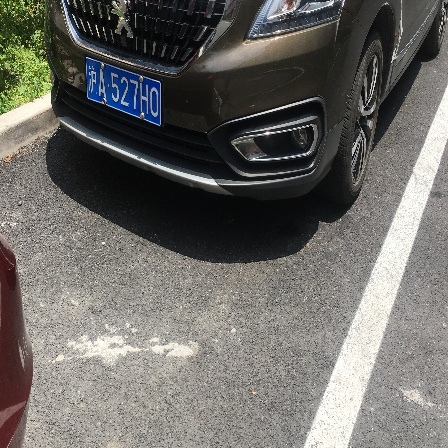plate: (82, 60, 164, 126)
